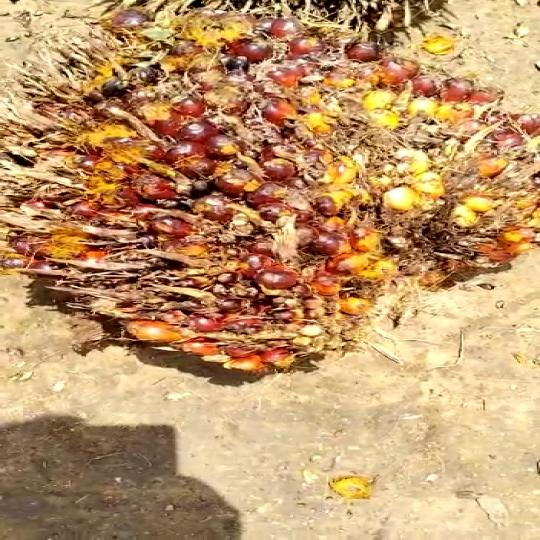masak: (0, 2, 540, 403)
